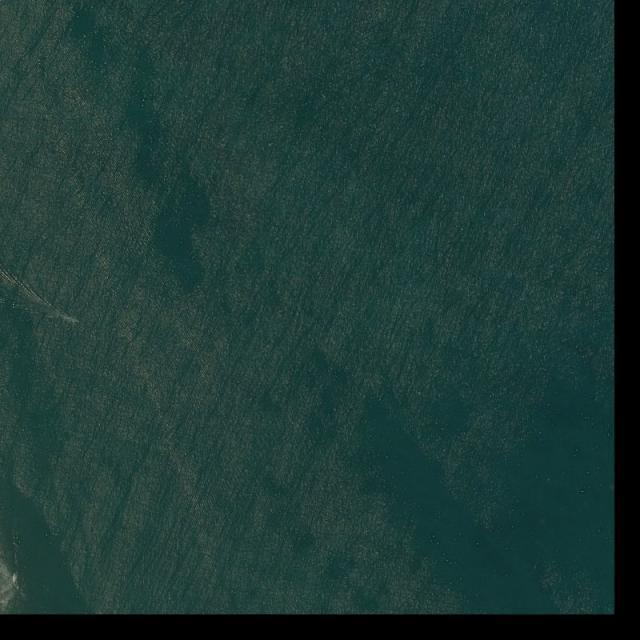ship: (76, 319, 81, 323)
